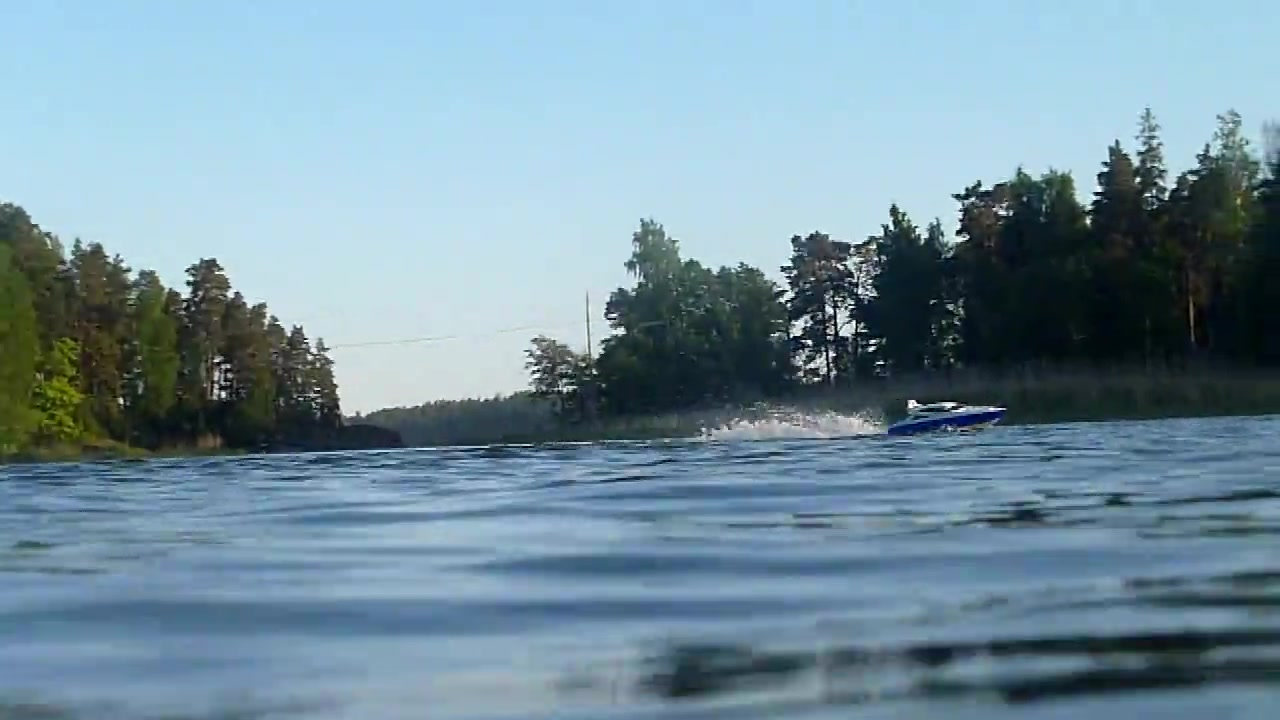boat: (887, 395, 1011, 440)
